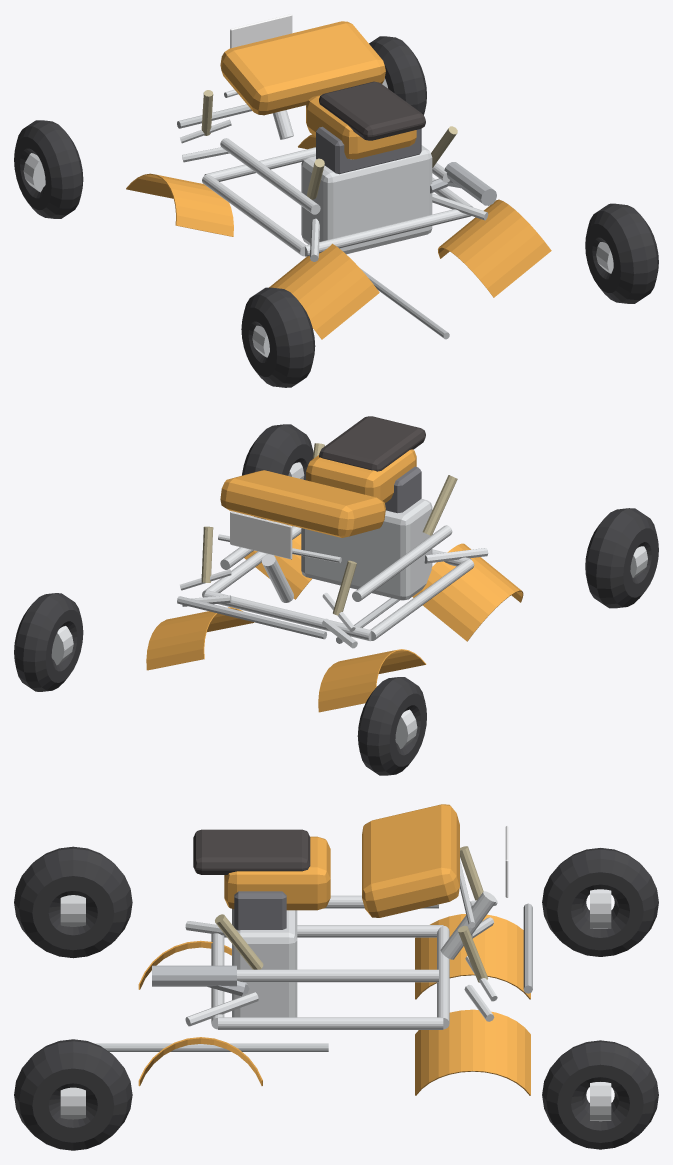
The model's file is atv250_lod1.glb.
The picture shows the model from 3 angles, top to bottom: view 1: azimuth 30°, elevation 25°; view 2: azimuth 150°, elevation 25°; view 3: azimuth 270°, elevation 25°; orthographic projection. The views are drawn at different scales.
Visible parts, largest first — view 1: b_hood, b_engine, b_rfender_1, b_wheel_rl_tire, b_wheel_rr_tire, b_rfender_-1, b_wheel_fl_tire, b_seat, b_ffender_-1, b_wheel_fr_tire, b_tank, b_engine_head (+9 smaller); view 2: b_engine, b_hood, b_wheel_rl_tire, b_wheel_fr_tire, b_wheel_fl_tire, b_rfender_-1, b_seat, b_ffender_-1, b_ffender_1, b_tank, b_wheel_rr_tire, b_plate (+14 smaller); view 3: b_hood, b_wheel_rl_tire, b_wheel_rr_tire, b_wheel_fr_tire, b_wheel_fl_tire, b_ffender_1, b_seat, b_ffender_-1, b_engine, b_tank, b_rail_1, b_rail2_1 (+19 smaller).
Part boxes in pixels (x1,y1,x2,y2): b_hood: (220,21,385,115); b_engine: (301,145,432,254); b_rfender_1: (438,199,551,297); b_wheel_rl_tire: (241,287,315,387); b_wheel_rr_tire: (585,203,658,303); b_rfender_-1: (269,243,379,339); b_wheel_fl_tire: (14,120,83,218); b_seat: (319,81,425,140); b_ffender_-1: (126,173,233,236); b_wheel_fr_tire: (369,36,426,114); b_tank: (306,94,416,159); b_engine_head: (316,126,421,174); b_engine: (301,499,432,600); b_hood: (220,470,385,537); b_wheel_rl_tire: (585,508,658,608); b_wheel_fr_tire: (14,593,83,691); b_wheel_fl_tire: (357,677,426,775); b_rfender_-1: (412,543,523,641); b_seat: (319,416,425,471); b_ffender_-1: (318,649,426,712); b_ffender_1: (146,607,254,670); b_tank: (306,449,416,502); b_wheel_rr_tire: (242,424,313,519); b_plate: (230,511,292,559); b_hood: (362,804,459,917); b_wheel_rl_tire: (14,846,132,958); b_wheel_rr_tire: (14,1039,132,1150); b_wheel_fr_tire: (542,1040,658,1149); b_wheel_fl_tire: (542,848,658,956); b_ffender_1: (415,1009,530,1095); b_seat: (193,829,310,874); b_ffender_-1: (415,914,530,999); b_engine: (232,909,297,1017); b_tank: (224,836,330,910); b_rail_1: (218,1017,443,1029); b_rail2_1: (237,969,438,982).
Bounding box in the file's own units: 2.4 × 1.12 × 3.03.
